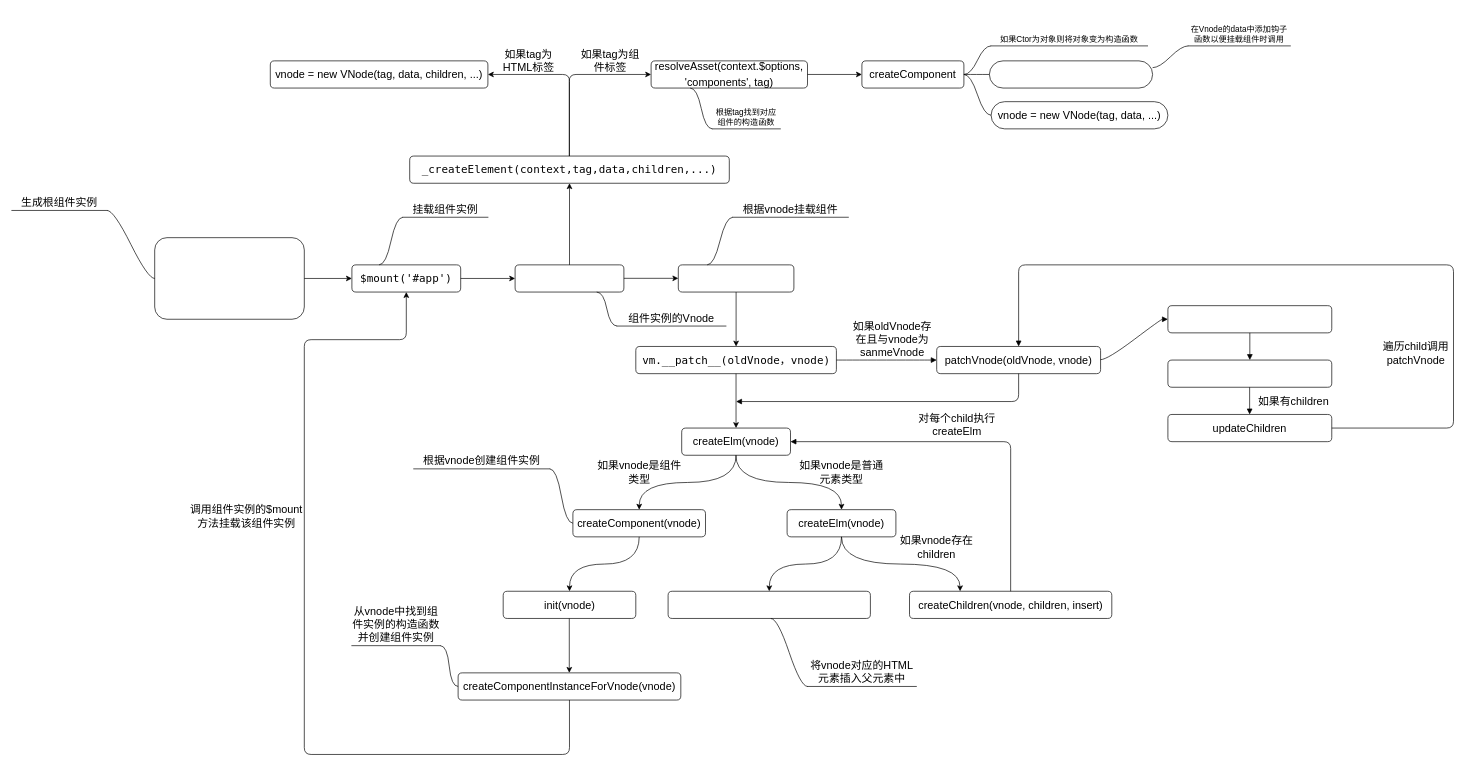
This 1472x772 diagram has some shape labels left out. Here are the shapes that lost their labels. From the top down, the centre of each, then its label:
At (x=1071, y=74): "installComponentHooks(data)".
At (x=229, y=278): "new Vue ({ render ( h ) { return h ( 'App' ) } })".
At (x=569, y=278): "vm._render()".
At (x=736, y=278): "vm._update(vnode)".
At (x=1249, y=319): "vnode.elm = old.elm".
At (x=1249, y=373): "使用vnode.data去更新elm".
At (x=768, y=604): "insert(parentElm, vnode.elm, refElm)".
